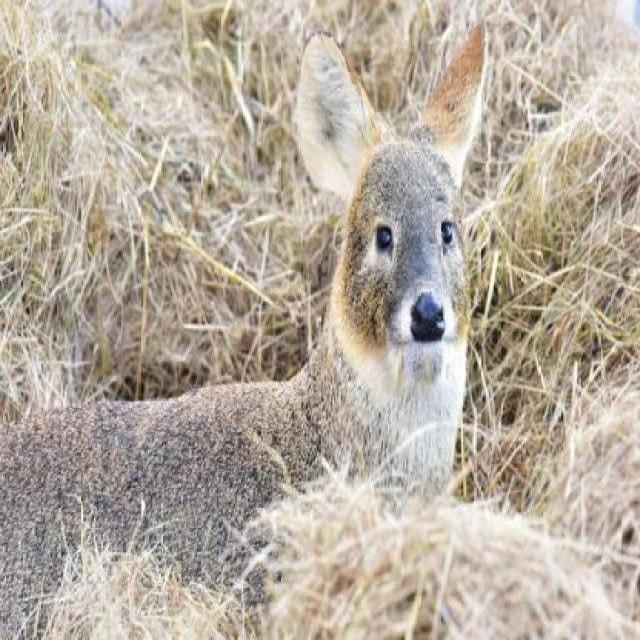deer: (0, 19, 498, 638)
